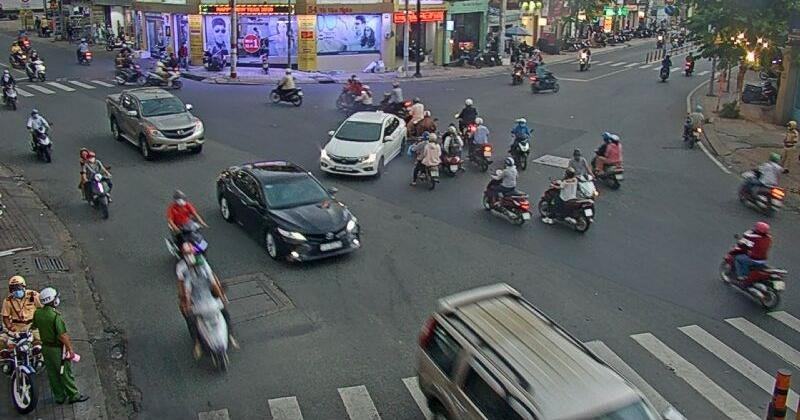xe hoi: (417, 282, 660, 420), (216, 161, 360, 261), (105, 86, 204, 160), (320, 111, 406, 176)
xe may: (718, 221, 787, 310), (538, 167, 594, 233), (482, 157, 531, 225), (77, 146, 112, 219), (590, 131, 624, 189), (467, 116, 493, 171), (26, 108, 52, 162), (268, 68, 304, 106), (509, 117, 534, 170), (441, 122, 464, 179)
